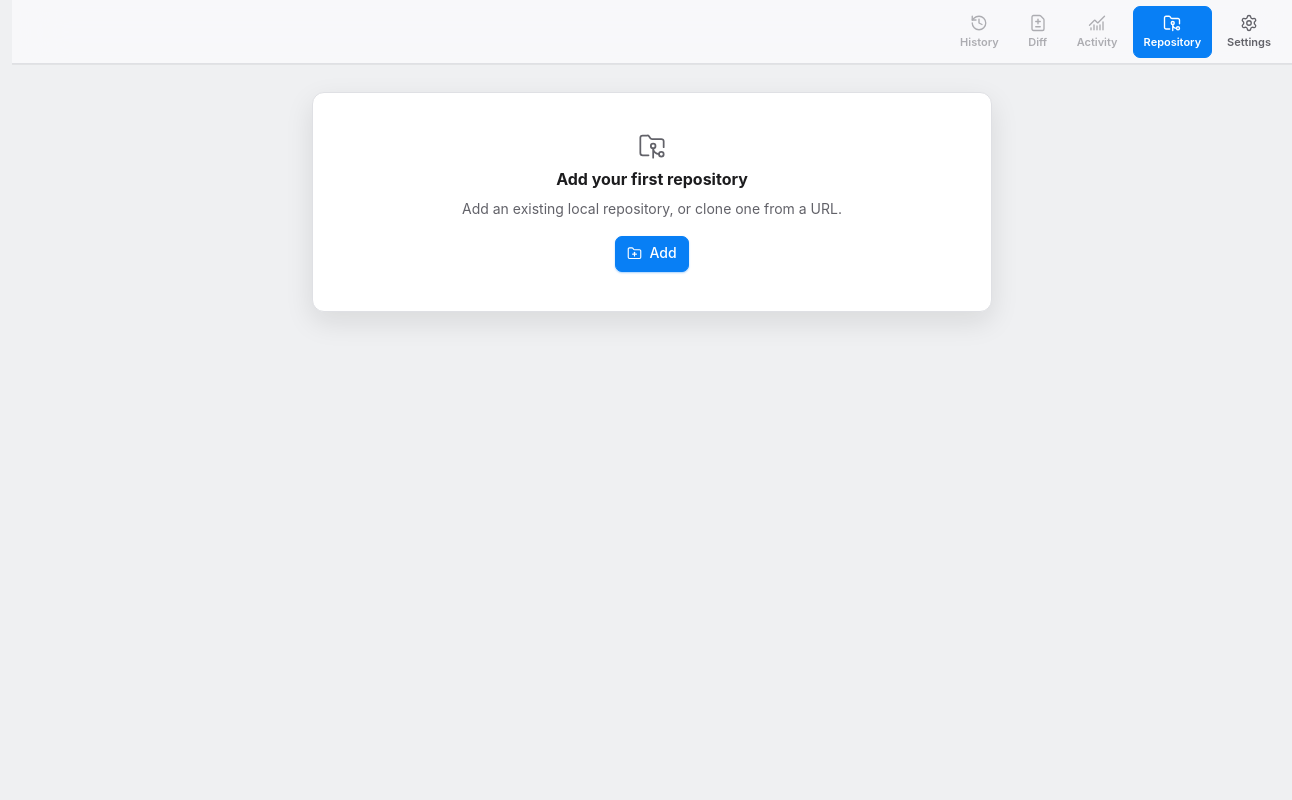
Scenario: App repository attach › shows Repository and Settings on the repository landing and the full navigation in Settings
expect the element "Add your first repository" is shown: met, box [312, 92, 992, 312]
expect the number of buttons named "Add Repository" is 1: met, box [615, 236, 688, 272]
Click the button "Settings" at (1249, 32), box [1216, 6, 1282, 58]
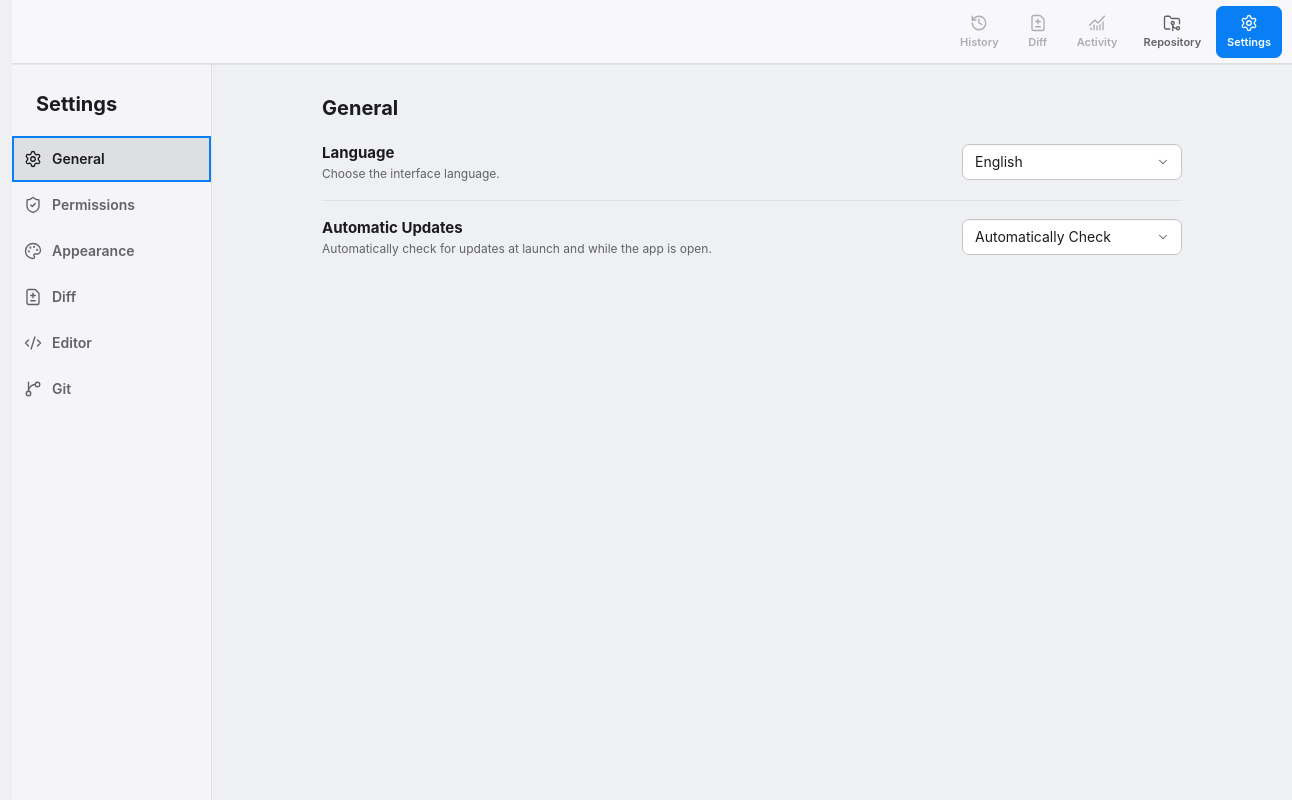
expect the 1st button "Diff" is disabled: met, box [1014, 6, 1062, 58]
expect the button "Settings" is marked as current: met, box [1216, 6, 1282, 58]
Click the button "Repository" at (1172, 32), box [1133, 6, 1212, 58]
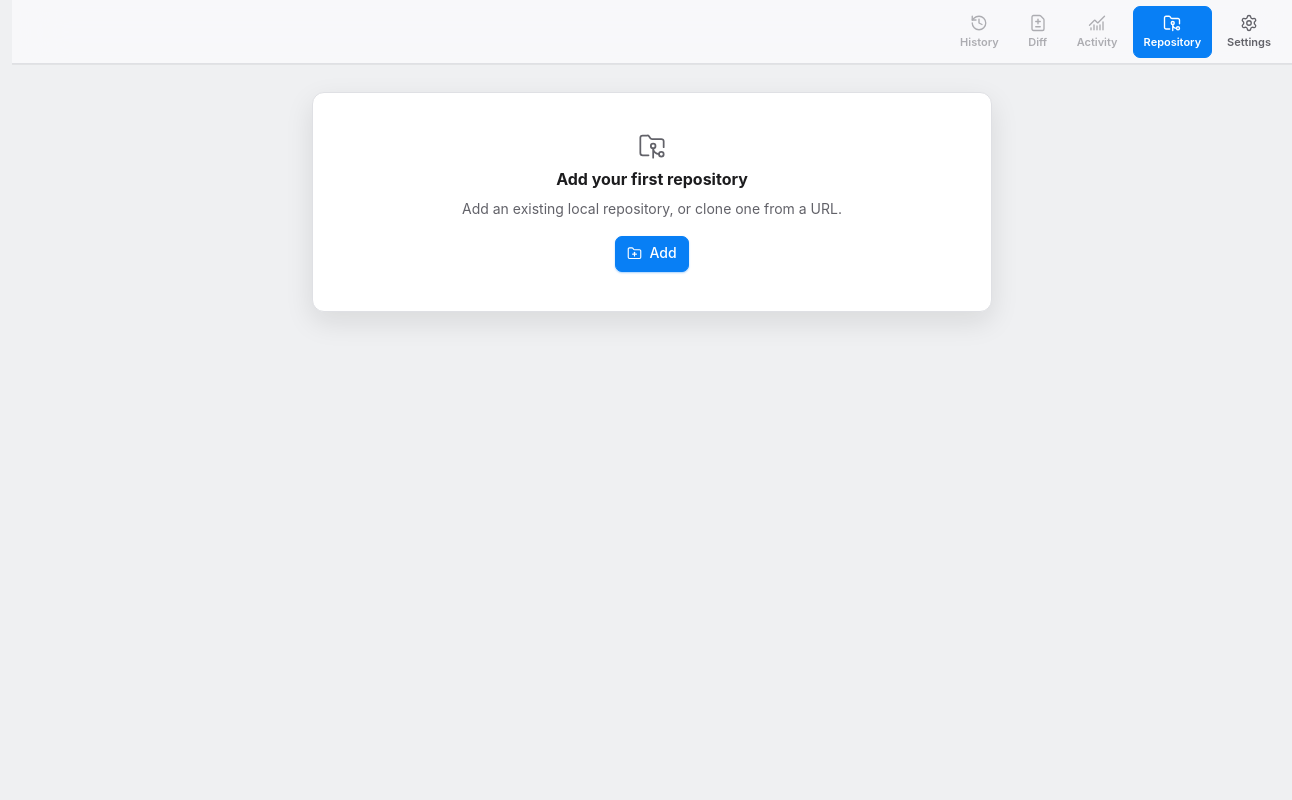
expect the element named "Repositories" is shown: met, box [312, 92, 992, 312]
expect the button "General" is gone: met
